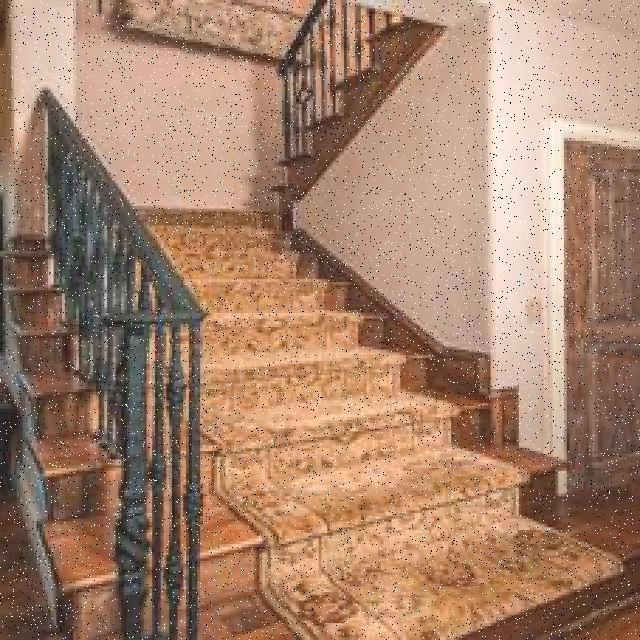Stairs: (62, 112, 630, 601)
